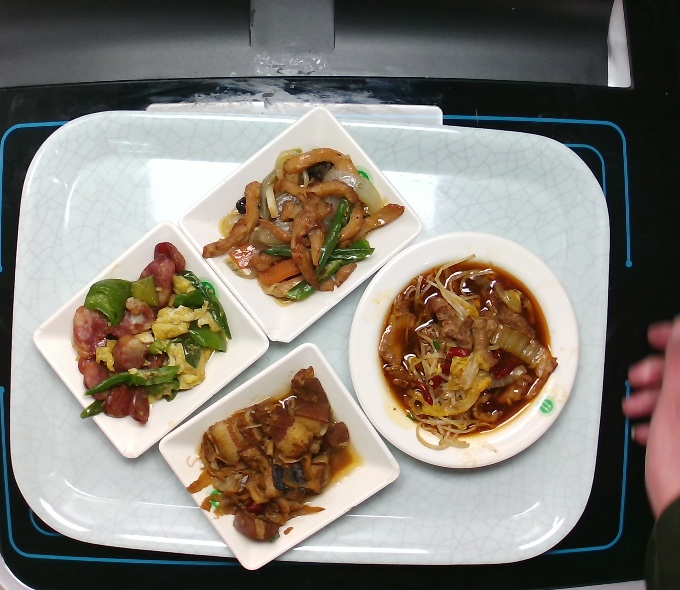wcq-HongShaoRou: (185, 363, 355, 544)
wcq-QingJiaoJiDanChaoDaChang: (69, 239, 235, 428)
wcq-QingJiaoRouSi: (197, 142, 410, 307)
wcq-ShuiZhuRouPian: (374, 251, 561, 452)
